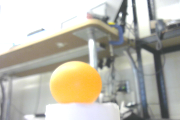PingPongBall: (51, 61, 101, 104)
